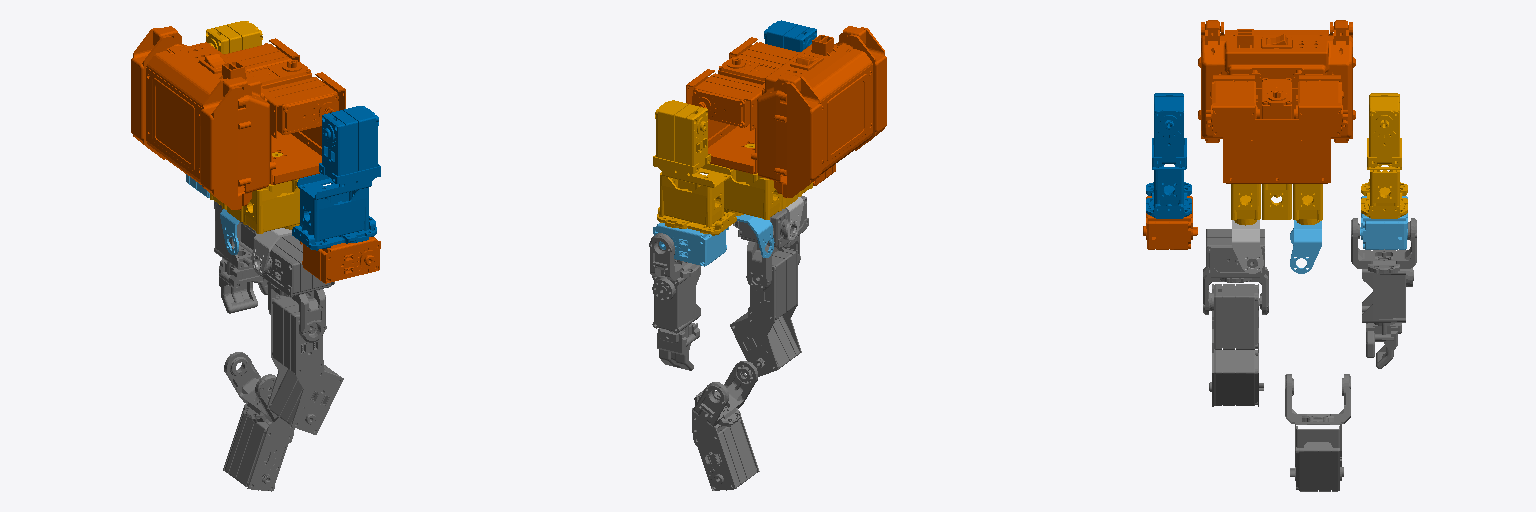
--- Render facts (derived) ---
The picture shows the robot from 3 angles, left to right: view 1: azimuth 30°, elevation 25°; view 2: azimuth 150°, elevation 25°; view 3: azimuth 270°, elevation 25°; orthographic projection.
Robot: khr22 — 23 links, 22 joints (22 revolute); root link BODY; default pose: all joints at 0.
Links seen in each view (by area): view 1: TORSO_LINK0, RARM_LINK1, RLEG_LINK2, LLEG_LINK3, RLEG_LINK1, LARM_LINK3, BODY, RARM_LINK2, LARM_LINK1, RLEG_LINK0, LLEG_LINK0; view 2: TORSO_LINK0, LARM_LINK1, LLEG_LINK3, RLEG_LINK2, LARM_LINK3, BODY, RLEG_LINK1, LARM_LINK2, RARM_LINK1, LLEG_LINK0; view 3: TORSO_LINK0, RLEG_LINK2, LARM_LINK3, LARM_LINK1, RARM_LINK1, LLEG_LINK3, BODY, RLEG_LINK1, RARM_LINK2, LARM_LINK2, LLEG_LINK0, RLEG_LINK0.
Link boxes in pixels (x1,y1,x2,y2): TORSO_LINK0: [131, 26, 345, 209]; RARM_LINK1: [292, 106, 380, 250]; RLEG_LINK2: [267, 296, 343, 434]; LLEG_LINK3: [223, 352, 294, 491]; RLEG_LINK1: [253, 235, 334, 342]; LARM_LINK3: [214, 201, 267, 313]; BODY: [210, 152, 299, 233]; RARM_LINK2: [300, 237, 380, 283]; LARM_LINK1: [206, 21, 262, 53]; RLEG_LINK0: [251, 228, 291, 274]; LLEG_LINK0: [220, 209, 239, 254]; TORSO_LINK0: [686, 26, 886, 197]; LARM_LINK1: [653, 100, 736, 235]; LLEG_LINK3: [692, 361, 759, 490]; RLEG_LINK2: [730, 248, 801, 376]; LARM_LINK3: [649, 233, 700, 370]; BODY: [724, 144, 812, 219]; RLEG_LINK1: [735, 196, 808, 290]; LARM_LINK2: [653, 223, 728, 266]; RARM_LINK1: [764, 20, 816, 51]; LLEG_LINK0: [736, 214, 774, 257]; TORSO_LINK0: [1198, 20, 1355, 183]; RLEG_LINK2: [1209, 284, 1263, 406]; LARM_LINK3: [1351, 218, 1416, 368]; LARM_LINK1: [1361, 93, 1407, 218]; RARM_LINK1: [1146, 93, 1191, 218]; LLEG_LINK3: [1285, 374, 1350, 491]; BODY: [1231, 184, 1322, 225]; RLEG_LINK1: [1203, 229, 1268, 314]; RARM_LINK2: [1143, 196, 1197, 249]; LARM_LINK2: [1360, 196, 1407, 249]; LLEG_LINK0: [1290, 220, 1321, 273]; RLEG_LINK0: [1232, 220, 1263, 273].
Size in the robot's own frame: 0.1103 by 0.1897 by 0.3282 metres.
Meshes: 23 distinct files referenced, 12 mesh visuals loaded (12 Collada DAE); not drawn: 11 (reference not matched to a file when rendering).

robot.urdf — khr22:
<?xml version="1.0"?>
<robot name="khr22"
       xmlns:xi="http://www.w3.org/2001/XInclude">
  <link name="BODY">
    <visual>
      <origin xyz="0 0 0" rpy="0 -0 0"/>
      <!-- <origin xyz="0.0013 0 0.28866" rpy="0 -0 0"/> -->
      <geometry>
        <mesh filename="khr22/mesh/BODY_mesh_refined.dae" scale="1 1 1" />
      </geometry>
    </visual>
    <collision>
      <origin xyz="0 0 0" rpy="0 -0 0"/>
      <!-- <origin xyz="0.0013 0 0.28866" rpy="0 -0 0"/> -->
      <geometry>
        <mesh filename="khr22/mesh/BODY_mesh_refined.dae" scale="1 1 1" />
      </geometry>
    </collision>
    <inertial>
      <mass value="0.12849" />
      <origin xyz="-0.0115 3.53916e-18 -0.02" rpy="0 -0 0"/>
      <inertia ixx="4.39672e-05" ixy="-5.24819e-23" ixz="-6.69555e-24" iyy="9.84623e-05" iyz="-1.72206e-20" izz="9.60387e-05"/>
    </inertial>
  </link>
  <link name="LLEG_LINK0">
    <visual>
      <origin xyz="0 -0.022 0.04" rpy="0 -0 0"/>
      <geometry>
        <mesh filename="khr22/mesh/LLEG_LINK0_mesh_refined.dae" scale="1 1 1" />
      </geometry>
    </visual>
    <collision>
      <origin xyz="0 -0.022 0.04" rpy="0 -0 0"/>
      <geometry>
        <mesh filename="khr22/mesh/LLEG_LINK0_mesh_refined.dae" scale="1 1 1" />
      </geometry>
    </collision>
    <inertial>
      <mass value="0.003322" />
      <origin xyz="-0.001629 -0.001057 -0.009271" rpy="0 -0 0"/>
      <inertia ixx="1.0684e-05" ixy="2.25136e-07" ixz="-7.55589e-09" iyy="1.17667e-05" iyz="-4.21048e-08" izz="4.59644e-06"/>
    </inertial>
  </link>
  <link name="LLEG_LINK1">
    <visual>
      <origin xyz="0.018517 0.017 -0.06265" rpy="0 -0 0"/>
      <geometry>
        <mesh filename="khr22/mesh/LLEG_LINK1_mesh_refined.dae" scale="1 1 1" />
      </geometry>
    </visual>
    <collision>
      <origin xyz="0.018517 0.017 -0.06265" rpy="0 -0 0"/>
      <geometry>
        <mesh filename="khr22/mesh/LLEG_LINK1_mesh_refined.dae" scale="1 1 1" />
      </geometry>
    </collision>
    <inertial>
      <mass value="0.0699" />
      <origin xyz="-0.021734 0.011506 -0.014091" rpy="0 -0 0"/>
      <inertia ixx="1.6919e-05" ixy="-8.67462e-08" ixz="-1.21724e-08" iyy="1.58948e-05" iyz="-5.7174e-07" izz="9.6286e-06"/>
      <!-- <mass value="0.059469" /> -->
      <!-- <origin xyz="-0.02 0.0115 -0.006481" rpy="0 -0 0"/> -->
      <!-- <inertia ixx="6.45473e-05" ixy="-4.27652e-10" ixz="4.33505e-10" iyy="7.31302e-05" iyz="2.22978e-08" izz="4.57654e-05"/> -->
    </inertial>
  </link>
  <link name="LLEG_LINK2">
    <visual>
      <origin xyz="-0.0192 -0.00825 -0.0385" rpy="0 -0 0"/>
      <geometry>
        <mesh filename="khr22/mesh/LLEG_LINK2_mesh_refined.dae" scale="1 1 1" />
      </geometry>
    </visual>
    <collision>
      <origin xyz="-0.0192 -0.00825 -0.0385" rpy="0 -0 0"/>
      <geometry>
        <mesh filename="khr22/mesh/LLEG_LINK2_mesh_refined.dae" scale="1 1 1" />
      </geometry>
    </collision>
    <inertial>
      <mass value="0.1031" />
      <origin xyz="0.002871 0.018978 -0.033258" rpy="0 -0 0"/>
      <inertia ixx="5.51675e-05" ixy="-4.33138e-07" ixz="1.60787e-07" iyy="5.51001e-05" iyz="2.79276e-08" izz="1.42107e-05"/>
      <!-- <mass value="0.08566" /> -->
      <!-- <origin xyz="0.002875 0.02 -0.03327" rpy="0 -0 0"/> -->
      <!-- <inertia ixx="6.70633e-05" ixy="2.76374e-22" ixz="-1.9933e-23" iyy="0.000102" iyz="2.47851e-20" izz="6.47926e-05"/> -->
    </inertial>
  </link>
  <link name="LLEG_LINK3">
    <visual>
      <origin xyz="0 0 -0.065" rpy="0 -0 0"/>
      <geometry>
        <mesh filename="khr22/mesh/LLEG_LINK3_mesh_refined.dae" scale="1 1 1" />
      </geometry>
    </visual>
    <collision>
      <origin xyz="0 0 -0.065" rpy="0 -0 0"/>
      <geometry>
        <mesh filename="khr22/mesh/LLEG_LINK3_mesh_refined.dae" scale="1 1 1" />
      </geometry>
    </collision>
    <inertial>
      <mass value="0.0694" />
      <origin xyz="0.003613 0.016674 -0.031461" rpy="0 -0 0"/>
      <inertia ixx="3.675e-05" ixy="-1.69837e-07" ixz="-8.70062e-07" iyy="3.37577e-05" iyz="-1.30046e-07" izz="1.29244e-05"/>
      <!-- <mass value="0.059469" /> -->
      <!-- <origin xyz="0.005048 0.02 -0.042868" rpy="0 -0 0"/> -->
      <!-- <inertia ixx="0.000211" ixy="-4.27652e-10" ixz="-4.35972e-07" iyy="0.000219" iyz="2.22978e-08" izz="4.55794e-05"/> -->
    </inertial>
  </link>
  <link name="LLEG_LINK4">
    <visual>
      <origin xyz="0 0 -0.065" rpy="0 -0 0"/>
      <geometry>
        <mesh filename="khr22/mesh/LLEG_LINK4_mesh_refined.dae" scale="1 1 1" />
      </geometry>
    </visual>
    <collision>
      <origin xyz="0 0 -0.065" rpy="0 -0 0"/>
      <geometry>
        <mesh filename="khr22/mesh/LLEG_LINK4_mesh_refined.dae" scale="1 1 1" />
      </geometry>
    </collision>
    <inertial>
      <mass value="0.0691" />
      <origin xyz="-0.000386 0.016666 -0.024369" rpy="0 -0 0"/>
      <inertia ixx="1.89725e-05" ixy="-5.30464e-08" ixz="-3.88994e-07" iyy="1.73695e-05" iyz="-1.9347e-08" izz="1.22922e-05"/>
      <!-- <mass value="0.059469" /> -->
      <!-- <origin xyz="-1.0842e-18 0.02 -0.032159" rpy="0 -0 0"/> -->
      <!-- <inertia ixx="0.000349" ixy="-4.27652e-10" ixz="4.33505e-10" iyy="0.000358" iyz="2.22978e-08" izz="4.5842e-05"/> -->
    </inertial>
  </link>
  <link name="LLEG_LINK5">
    <visual>
      <origin xyz="0.019683 0.00825 -0.0385" rpy="0 -0 0"/>
      <geometry>
        <mesh filename="khr22/mesh/LLEG_LINK5_mesh_refined.dae" scale="1 1 1" />
      </geometry>
    </visual>
    <collision>
      <origin xyz="0.019683 0.00825 -0.0385" rpy="0 -0 0"/>
      <geometry>
        <mesh filename="khr22/mesh/LLEG_LINK5_mesh_refined.dae" scale="1 1 1" />
      </geometry>
    </collision>
    <inertial>
      <mass value="0.0419" />
      <origin xyz="-0.020862 0.020902 -0.013459" rpy="0 -0 0"/>
      <inertia ixx="1.31439e-05" ixy="-3.43305e-09" ixz="-2.13264e-07" iyy="2.75629e-05" iyz="3.99808e-07" izz="3.78492e-05"/>
      <!-- <mass value="0.103233" /> -->
      <!-- <origin xyz="3.46945e-18 0.01093 0.00521" rpy="0 -0 0"/> -->
      <!-- <inertia ixx="0.000993" ixy="4.72528e-06" ixz="-1.08944e-06" iyy="0.000411" iyz="1.03972e-06" izz="0.000602"/> -->
    </inertial>
  </link>
  <link name="RLEG_LINK0">
    <visual>
      <origin xyz="0 0.022 0.04" rpy="0 -0 0"/>
      <geometry>
        <mesh filename="khr22/mesh/RLEG_LINK0_mesh_refined.dae" scale="1 1 1" />
      </geometry>
    </visual>
    <collision>
      <origin xyz="0 0.022 0.04" rpy="0 -0 0"/>
      <geometry>
        <mesh filename="khr22/mesh/RLEG_LINK0_mesh_refined.dae" scale="1 1 1" />
      </geometry>
    </collision>
    <inertial>
      <mass value="0.003322" />
      <origin xyz="-0.001629 0.001057 -0.009271" rpy="0 -0 0"/>
      <inertia ixx="1.0684e-05" ixy="2.25136e-07" ixz="-8.02116e-09" iyy="1.17667e-05" iyz="4.20715e-08" izz="4.59644e-06"/>
    </inertial>
  </link>
  <link name="RLEG_LINK1">
    <visual>
      <origin xyz="0.018517 -0.017 -0.06265" rpy="0 -0 0"/>
      <geometry>
        <mesh filename="khr22/mesh/RLEG_LINK1_mesh_refined.dae" scale="1 1 1" />
      </geometry>
    </visual>
    <collision>
      <origin xyz="0.018517 -0.017 -0.06265" rpy="0 -0 0"/>
      <geometry>
        <mesh filename="khr22/mesh/RLEG_LINK1_mesh_refined.dae" scale="1 1 1" />
      </geometry>
    </collision>
    <inertial>
      <mass value="0.0699" />
      <origin xyz="-0.021734 -0.011506 -0.014091" rpy="0 -0 0"/>
      <inertia ixx="1.67706e-05" ixy="3.09063e-07" ixz="-9.06368e-08" iyy="1.59351e-05" iyz="-1.85881e-07" izz="8.90141e-06"/>
      <!-- <mass value="0.059469" /> -->
      <!-- <origin xyz="-0.02 -0.0115 -0.006481" rpy="0 -0 0"/> -->
      <!-- <inertia ixx="6.45473e-05" ixy="-4.27652e-10" ixz="4.33505e-10" iyy="7.31302e-05" iyz="2.22978e-08" izz="4.57654e-05"/> -->
    </inertial>
  </link>
  <link name="RLEG_LINK2">
    <visual>
      <origin xyz="-0.0192 0.00825 -0.0385" rpy="0 -0 0"/>
      <geometry>
        <mesh filename="khr22/mesh/RLEG_LINK2_mesh_refined.dae" scale="1 1 1" />
      </geometry>
    </visual>
    <collision>
      <origin xyz="-0.0192 0.00825 -0.0385" rpy="0 -0 0"/>
      <geometry>
        <mesh filename="khr22/mesh/RLEG_LINK2_mesh_refined.dae" scale="1 1 1" />
      </geometry>
    </collision>
    <inertial>
      <mass value="0.1031" />
      <origin xyz="0.002871 -0.018978 -0.033258" rpy="0 -0 0"/>
      <inertia ixx="5.53682e-05" ixy="1.79727e-07" ixz="1.50432e-07" iyy="5.49684e-05" iyz="-1.26323e-07" izz="1.5723e-05"/>
      <!-- <mass value="0.08566" /> -->
      <!-- <origin xyz="0.002875 -0.02 -0.03327" rpy="0 -0 0"/> -->
      <!-- <inertia ixx="6.70633e-05" ixy="2.76374e-22" ixz="-1.9933e-23" iyy="0.000102" iyz="2.47851e-20" izz="6.47926e-05"/> -->
    </inertial>
  </link>
  <link name="RLEG_LINK3">
    <visual>
      <origin xyz="0 0 -0.065" rpy="0 -0 0"/>
      <geometry>
        <mesh filename="khr22/mesh/RLEG_LINK3_mesh_refined.dae" scale="1 1 1" />
      </geometry>
    </visual>
    <collision>
      <origin xyz="0 0 -0.065" rpy="0 -0 0"/>
      <geometry>
        <mesh filename="khr22/mesh/RLEG_LINK3_mesh_refined.dae" scale="1 1 1" />
      </geometry>
    </collision>
    <inertial>
      <mass value="0.0694" />
      <origin xyz="0.003613 -0.016674 -0.031461" rpy="0 -0 0"/>
      <inertia ixx="3.88163e-05" ixy="-4.03699e-09" ixz="-8.68336e-07" iyy="3.51562e-05" iyz="-8.44442e-08" izz="1.3848e-05"/>
      <!-- <mass value="0.059469" /> -->
      <!-- <origin xyz="0.005048 -0.02 -0.042868" rpy="0 -0 0"/> -->
      <!-- <inertia ixx="0.000211" ixy="-4.27652e-10" ixz="-4.35972e-07" iyy="0.000219" iyz="2.22978e-08" izz="4.55794e-05"/> -->
    </inertial>
  </link>
  <link name="RLEG_LINK4">
    <visual>
      <origin xyz="0 -0.003 -0.065" rpy="0 -0 0"/>
      <geometry>
        <mesh filename="khr22/mesh/RLEG_LINK4_mesh_refined.dae" scale="1 1 1" />
      </geometry>
    </visual>
    <collision>
      <origin xyz="0 -0.003 -0.065" rpy="0 -0 0"/>
      <geometry>
        <mesh filename="khr22/mesh/RLEG_LINK4_mesh_refined.dae" scale="1 1 1" />
      </geometry>
    </collision>
    <inertial>
      <mass value="0.0691" />
      <origin xyz="-0.000386 -0.016666 -0.024369" rpy="0 -0 0"/>
      <inertia ixx="2.07911e-05" ixy="-1.95431e-07" ixz="9.83503e-08" iyy="1.81828e-05" iyz="8.03039e-08" izz="1.18297e-05"/>
      <!-- <mass value="0.059469" /> -->
      <!-- <origin xyz="-4.33681e-19 -0.02 -0.032159" rpy="0 -0 0"/> -->
      <!-- <inertia ixx="0.000349" ixy="-4.27652e-10" ixz="4.33505e-10" iyy="0.000358" iyz="2.22978e-08" izz="4.5842e-05"/> -->
    </inertial>
  </link>
  <link name="RLEG_LINK5">
    <visual>
      <origin xyz="0.019683 -0.00825 -0.0385" rpy="0 -0 0"/>
      <geometry>
        <mesh filename="khr22/mesh/RLEG_LINK5_mesh_refined.dae" scale="1 1 1" />
      </geometry>
    </visual>
    <collision>
      <origin xyz="0.019683 -0.00825 -0.0385" rpy="0 -0 0"/>
      <geometry>
        <mesh filename="khr22/mesh/RLEG_LINK5_mesh_refined.dae" scale="1 1 1" />
      </geometry>
    </collision>
    <inertial>
      <mass value="0.0419" />
      <origin xyz="-0.020862 -0.020902 -0.013459" rpy="0 -0 0"/>
      <inertia ixx="1.24417e-05" ixy="-6.00499e-07" ixz="1.04282e-07" iyy="3.00021e-05" iyz="-5.79267e-07" izz="3.92743e-05"/>
      <!-- <mass value="0.103233" /> -->
      <!-- <origin xyz="-3.46945e-18 -0.01093 0.00521" rpy="0 -0 0"/> -->
      <!-- <inertia ixx="0.000993" ixy="4.72527e-06" ixz="1.01251e-06" iyy="0.000411" iyz="-1.52142e-07" izz="0.000602"/> -->
    </inertial>
  </link>
  <link name="TORSO_LINK0">
    <visual>
      <origin xyz="0 0 0" rpy="0 -0 0"/>
      <geometry>
        <mesh filename="khr22/mesh/TORSO_LINK0_mesh_refined.dae" scale="1 1 1" />
      </geometry>
    </visual>
    <collision>
      <origin xyz="0 0 0" rpy="0 -0 0"/>
      <geometry>
        <mesh filename="khr22/mesh/TORSO_LINK0_mesh_refined.dae" scale="1 1 1" />
      </geometry>
    </collision>
    <inertial>
      <mass value="0.35983" />
      <origin xyz="-0.029892 1.89568e-17 0.029281" rpy="0 -0 0"/>
      <inertia ixx="0.002007" ixy="3.87489e-05" ixz="-9.86728e-07" iyy="0.001856" iyz="-7.26528e-06" izz="0.001515"/>
    </inertial>
  </link>
  <link name="HEAD_LINK0">
    <visual>
      <origin xyz="0 0 0.0644" rpy="0 -0 0"/>
      <geometry>
        <mesh filename="khr22/mesh/HEAD_LINK0_mesh_refined.dae" scale="1 1 1" />
      </geometry>
    </visual>
    <collision>
      <origin xyz="0 0 0.0644" rpy="0 -0 0"/>
      <geometry>
        <mesh filename="khr22/mesh/HEAD_LINK0_mesh_refined.dae" scale="1 1 1" />
      </geometry>
    </collision>
    <inertial>
      <mass value="0.0149" />
      <origin xyz="0.002048 0 0.020747" rpy="0 -0 0"/>
      <inertia ixx="1.89498e-06" ixy="1.75751e-08" ixz="-5.79694e-08" iyy="3.27018e-06" iyz="1.69379e-08" izz="2.44034e-06"/>
      <!-- <mass value="0.014361" /> -->
      <!-- <origin xyz="0.003285 -2.30629e-06 0.020555" rpy="0 -0 0"/> -->
      <!-- <inertia ixx="4.95528e-05" ixy="-1.38168e-11" ixz="-7.3432e-08" iyy="4.45537e-05" iyz="-2.01845e-09" izz="1.47912e-05"/> -->
    </inertial>
  </link>
  <link name="LARM_LINK0">
    <visual>
      <origin xyz="0.0115 0.049 0.0474" rpy="0 -0 0"/>
      <geometry>
        <mesh filename="khr22/mesh/LARM_LINK0_mesh_refined.dae" scale="1 1 1" />
      </geometry>
    </visual>
    <collision>
      <origin xyz="0.0115 0.049 0.0474" rpy="0 -0 0"/>
      <geometry>
        <mesh filename="khr22/mesh/LARM_LINK0_mesh_refined.dae" scale="1 1 1" />
      </geometry>
    </collision>
    <inertial>
      <mass value="0.0153" />
      <origin xyz="0 0.014576 0" rpy="0 -0 0"/>
      <inertia ixx="1.64238e-06" ixy="-4.39899e-09" ixz="2.13134e-08" iyy="2.26922e-06" iyz="-3.47822e-09" izz="2.75336e-06"/>
      <!-- <mass value="0.016639" /> -->
      <!-- <origin xyz="-3.46945e-18 0.009163 0" rpy="0 -0 0"/> -->
      <!-- <inertia ixx="3.04092e-05" ixy="-4.27652e-10" ixz="4.33505e-10" iyy="2.27027e-05" iyz="2.22978e-08" izz="2.23763e-05"/> -->
    </inertial>
  </link>
  <link name="LARM_LINK1">
    <visual>
      <origin xyz="0.01975 0.0255 0" rpy="0 -0 0"/>
      <geometry>
        <mesh filename="khr22/mesh/LARM_LINK1_mesh_refined.dae" scale="1 1 1" />
      </geometry>
    </visual>
    <collision>
      <origin xyz="0.01975 0.0255 0" rpy="0 -0 0"/>
      <geometry>
        <mesh filename="khr22/mesh/LARM_LINK1_mesh_refined.dae" scale="1 1 1" />
      </geometry>
    </collision>
    <inertial>
      <mass value="0.08566" />
      <origin xyz="-0.02425 0 -0.03275" rpy="0 -0 0"/>
      <inertia ixx="4.0299e-05" ixy="-8.32865e-25" ixz="-3.89972e-23" iyy="6.60435e-05" iyz="9.2227e-21" izz="7.43506e-05"/>
    </inertial>
  </link>
  <link name="LARM_LINK2">
    <visual>
      <origin xyz="0.04025 0.0255 0.075" rpy="0 -0 0"/>
      <!-- <origin xyz="-0.016 0 -0.075" rpy="0 -0 0"/> -->
      <geometry>
        <mesh filename="khr22/mesh/LARM_LINK2_mesh_refined.dae" scale="1 1 1" />
      </geometry>
    </visual>
    <collision>
      <origin xyz="0.04025 0.0255 0.075" rpy="0 -0 0"/>
      <!-- <origin xyz="-0.016 0 -0.075" rpy="0 -0 0"/> -->
      <geometry>
        <mesh filename="khr22/mesh/LARM_LINK2_mesh_refined.dae" scale="1 1 1" />
      </geometry>
    </collision>
    <inertial>
      <mass value="0.04283" />
      <origin xyz="0.0115 0 1.04083e-17" rpy="0 -0 0"/>
      <inertia ixx="2.11725e-05" ixy="4.25575e-26" ixz="-1.88949e-23" iyy="3.40543e-05" iyz="1.04267e-20" izz="3.71848e-05"/>
    </inertial>
  </link>
  <link name="LARM_LINK3">
    <visual>
      <origin xyz="-0.0153 -0.0197 -0.0875" rpy="0 -0 0"/>
      <geometry>
        <mesh filename="khr22/mesh/LARM_LINK3_mesh_refined.dae" scale="1 1 1" />
      </geometry>
    </visual>
    <collision>
      <origin xyz="-0.0153 -0.0197 -0.0875" rpy="0 -0 0"/>
      <geometry>
        <mesh filename="khr22/mesh/LARM_LINK3_mesh_refined.dae" scale="1 1 1" />
      </geometry>
    </collision>
    <inertial>
      <mass value="0.0315" />
      <origin xyz="0.000525 0.019115 -0.039067" rpy="0 -0 0"/>
      <inertia ixx="2.0635e-05" ixy="6.63534e-08" ixz="1.858e-07" iyy="1.94974e-05" iyz="-1.80473e-07" izz="3.50615e-06"/>
      <!-- <mass value="0.07626" /> -->
      <!-- <origin xyz="0.020363 0.074486 -0.077361" rpy="0 -0 0"/> -->
      <!-- <inertia ixx="0.000144" ixy="4.76604e-08" ixz="1.40919e-07" iyy="0.000121" iyz="-4.90624e-08" izz="9.78235e-05"/> -->
    </inertial>
  </link>
  <link name="RARM_LINK0">
    <visual>
      <origin xyz="0.0115 -0.049 0.0474" rpy="0 -0 0"/>
      <geometry>
        <mesh filename="khr22/mesh/RARM_LINK0_mesh_refined.dae" scale="1 1 1" />
      </geometry>
    </visual>
    <collision>
      <origin xyz="0.0115 -0.049 0.0474" rpy="0 -0 0"/>
      <geometry>
        <mesh filename="khr22/mesh/RARM_LINK0_mesh_refined.dae" scale="1 1 1" />
      </geometry>
    </collision>
    <inertial>
      <mass value="0.0153" />
      <origin xyz="0 -0.014576 0" rpy="0 -0 0"/>
      <inertia ixx="1.6763e-06" ixy="-1.67661e-08" ixz="-9.95332e-09" iyy="2.26307e-06" iyz="1.99264e-09" izz="2.74554e-06"/>
      <!-- <mass value="0.016639" /> -->
      <!-- <origin xyz="0 -0.009163 0" rpy="0 -0 0"/> -->
      <!-- <inertia ixx="3.04092e-05" ixy="-4.27652e-10" ixz="4.33505e-10" iyy="2.27027e-05" iyz="2.22978e-08" izz="2.23763e-05"/> -->
    </inertial>
  </link>
  <link name="RARM_LINK1">
    <visual>
      <origin xyz="0.01975 -0.0255 0" rpy="0 -0 0"/>
      <geometry>
        <mesh filename="khr22/mesh/RARM_LINK1_mesh_refined.dae" scale="1 1 1" />
      </geometry>
    </visual>
    <collision>
      <origin xyz="0.01975 -0.0255 0" rpy="0 -0 0"/>
      <geometry>
        <mesh filename="khr22/mesh/RARM_LINK1_mesh_refined.dae" scale="1 1 1" />
      </geometry>
    </collision>
    <inertial>
      <mass value="0.08566" />
      <origin xyz="-0.02425 0 -0.03275" rpy="0 -0 0"/>
      <inertia ixx="4.0299e-05" ixy="-8.32865e-25" ixz="-3.89972e-23" iyy="6.60435e-05" iyz="9.2227e-21" izz="7.43506e-05"/>
    </inertial>
  </link>
  <link name="RARM_LINK2">
    <visual>
      <origin xyz="0.04025 -0.0255 0.075" rpy="0 -0 0"/>
      <!-- <origin xyz="-0.016 0 -0.075" rpy="0 -0 0"/> -->
      <geometry>
        <mesh filename="khr22/mesh/RARM_LINK2_mesh_refined.dae" scale="1 1 1" />
      </geometry>
    </visual>
    <collision>
      <origin xyz="0.04025 -0.0255 0.075" rpy="0 -0 0"/>
      <!-- <origin xyz="-0.016 0 -0.075" rpy="0 -0 0"/> -->
      <geometry>
        <mesh filename="khr22/mesh/RARM_LINK2_mesh_refined.dae" scale="1 1 1" />
      </geometry>
    </collision>
    <inertial>
      <mass value="0.04283" />
      <origin xyz="0.0115 0 1.04083e-17" rpy="0 -0 0"/>
      <inertia ixx="2.11725e-05" ixy="4.25575e-26" ixz="-1.88949e-23" iyy="3.40543e-05" iyz="1.04267e-20" izz="3.71848e-05"/>
    </inertial>
  </link>
  <link name="RARM_LINK3">
    <visual>
      <origin xyz="-0.0153 0.0197 -0.0875" rpy="0 -0 0"/>
      <geometry>
        <mesh filename="khr22/mesh/RARM_LINK3_mesh_refined.dae" scale="1 1 1" />
      </geometry>
    </visual>
    <collision>
      <origin xyz="-0.0153 0.0197 -0.0875" rpy="0 -0 0"/>
      <geometry>
        <mesh filename="khr22/mesh/RARM_LINK3_mesh_refined.dae" scale="1 1 1" />
      </geometry>
    </collision>
    <inertial>
      <mass value="0.0315" />
      <origin xyz="0.000525 -0.019115 -0.039067" rpy="0 -0 0"/>
      <inertia ixx="2.01586e-05" ixy="-1.18985e-07" ixz="7.55844e-08" iyy="1.8365e-05" iyz="5.07189e-07" izz="4.02757e-06"/>
      <!-- <mass value="0.07626" /> -->
      <!-- <origin xyz="0.020363 -0.074486 -0.077361" rpy="0 -0 0"/> -->
      <!-- <inertia ixx="0.000144" ixy="4.76604e-08" ixz="1.7102e-07" iyy="0.000121" iyz="8.96584e-08" izz="9.78235e-05"/> -->
    </inertial>
  </link>
  <joint name="LLEG_JOINT0" type="revolute">
    <parent link="BODY"/>
    <child  link="LLEG_LINK0"/>
    <origin xyz="0 0.022 -0.04" rpy="0 -0 0 "/>
    <axis   xyz="0 0 1"/>
    <limit lower="-3.14159" upper="3.14159" effort="100" velocity="0.5" />
    <dynamics damping="0.2" friction="0" />
  </joint>
  <joint name="LLEG_JOINT1" type="revolute">
    <parent link="LLEG_LINK0"/>
    <child  link="LLEG_LINK1"/>
    <origin xyz="0.02 -0.005 -0.0235" rpy="0 -0 0 "/>
    <axis   xyz="1 0 0"/>
    <limit lower="-3.14159" upper="3.14159" effort="100" velocity="0.5" />
    <dynamics damping="0.2" friction="0" />
  </joint>
  <joint name="LLEG_JOINT2" type="revolute">
    <parent link="LLEG_LINK1"/>
    <child  link="LLEG_LINK2"/>
    <origin xyz="-0.021 -0.00825 -0.0385" rpy="0 -0 0 "/>
    <axis   xyz="0 1 0"/>
    <limit lower="-3.14159" upper="3.14159" effort="100" velocity="0.5" />
    <dynamics damping="0.2" friction="0" />
  </joint>
  <joint name="LLEG_JOINT3" type="revolute">
    <parent link="LLEG_LINK2"/>
    <child  link="LLEG_LINK3"/>
    <origin xyz="0 0 -0.065" rpy="0 -0 0 "/>
    <axis   xyz="0 1 0"/>
    <limit lower="-3.14159" upper="3.14159" effort="100" velocity="0.5" />
    <dynamics damping="0.2" friction="0" />
  </joint>
  <joint name="LLEG_JOINT4" type="revolute">
    <parent link="LLEG_LINK3"/>
    <child  link="LLEG_LINK4"/>
    <origin xyz="0 0 -0.065" rpy="0 -0 0 "/>
    <axis   xyz="0 1 0"/>
    <limit lower="-3.14159" upper="3.14159" effort="100" velocity="0.5" />
    <dynamics damping="0.2" friction="0" />
  </joint>
  <joint name="LLEG_JOINT5" type="revolute">
    <parent link="LLEG_LINK4"/>
    <child  link="LLEG_LINK5"/>
    <origin xyz="0.0197 0.00825 -0.0385" rpy="0 -0 0 "/>
    <axis   xyz="1 0 0"/>
    <limit lower="-3.14159" upper="3.14159" effort="100" velocity="0.5" />
    <dynamics damping="0.2" friction="0" />
  </joint>
  <joint name="RLEG_JOINT0" type="revolute">
    <parent link="BODY"/>
    <child  link="RLEG_LINK0"/>
    <origin xyz="0 -0.022 -0.04" rpy="0 -0 0 "/>
    <axis   xyz="0 0 1"/>
    <limit lower="-3.14159" upper="3.14159" effort="100" velocity="0.5" />
    <dynamics damping="0.2" friction="0" />
  </joint>
  <joint name="RLEG_JOINT1" type="revolute">
    <parent link="RLEG_LINK0"/>
    <child  link="RLEG_LINK1"/>
    <origin xyz="0.02 0.005 -0.0235" rpy="0 -0 0 "/>
    <axis   xyz="1 0 0"/>
    <limit lower="-3.14159" upper="3.14159" effort="100" velocity="0.5" />
    <dynamics damping="0.2" friction="0" />
  </joint>
  <joint name="RLEG_JOINT2" type="revolute">
    <parent link="RLEG_LINK1"/>
    <child  link="RLEG_LINK2"/>
    <origin xyz="-0.021 0.00825 -0.0385" rpy="0 -0 0 "/>
    <axis   xyz="0 1 0"/>
    <limit lower="-3.14159" upper="3.14159" effort="100" velocity="0.5" />
    <dynamics damping="0.2" friction="0" />
  </joint>
  <joint name="RLEG_JOINT3" type="revolute">
    <parent link="RLEG_LINK2"/>
    <child  link="RLEG_LINK3"/>
    <origin xyz="0 0 -0.065" rpy="0 -0 0 "/>
    <axis   xyz="0 1 0"/>
    <limit lower="-3.14159" upper="3.14159" effort="100" velocity="0.5" />
    <dynamics damping="0.2" friction="0" />
  </joint>
  <joint name="RLEG_JOINT4" type="revolute">
    <parent link="RLEG_LINK3"/>
    <child  link="RLEG_LINK4"/>
    <origin xyz="0 0 -0.065" rpy="0 -0 0 "/>
    <axis   xyz="0 1 0"/>
    <limit lower="-3.14159" upper="3.14159" effort="100" velocity="0.5" />
    <dynamics damping="0.2" friction="0" />
  </joint>
  <joint name="RLEG_JOINT5" type="revolute">
    <parent link="RLEG_LINK4"/>
    <child  link="RLEG_LINK5"/>
    <origin xyz="0.0197 -0.00825 -0.0385" rpy="0 -0 0 "/>
    <axis   xyz="1 0 0"/>
    <limit lower="-3.14159" upper="3.14159" effort="100" velocity="0.5" />
    <dynamics damping="0.2" friction="0" />
  </joint>
  <joint name="TORSO_JOINT0" type="revolute">
    <parent link="BODY"/>
    <child  link="TORSO_LINK0"/>
    <origin xyz="0 0 0" rpy="0 -0 0 "/>
    <axis   xyz="0 0 1"/>
    <limit lower="-3.14159" upper="3.14159" effort="100" velocity="0.5" />
    <dynamics damping="0.2" friction="0" />
  </joint>
  <joint name="HEAD_JOINT0" type="revolute">
    <parent link="TORSO_LINK0"/>
    <child  link="HEAD_LINK0"/>
    <origin xyz="0.0115 0 0.064" rpy="0 -0 0 "/>
    <axis   xyz="0 0 1"/>
    <limit lower="-3.14159" upper="3.14159" effort="100" velocity="0.5" />
    <dynamics damping="0.2" friction="0" />
  </joint>
  <joint name="LARM_JOINT0" type="revolute">
    <parent link="TORSO_LINK0"/>
    <child  link="LARM_LINK0"/>
    <origin xyz="0.0115 0.049 0.0474" rpy="0 -0 0 "/>
    <axis   xyz="0 1 0"/>
    <limit lower="-3.14159" upper="3.14159" effort="100" velocity="0.5" />
    <dynamics damping="0.2" friction="0" />
  </joint>
  <joint name="LARM_JOINT1" type="revolute">
    <parent link="LARM_LINK0"/>
    <child  link="LARM_LINK1"/>
    <origin xyz="0.01975 0.0255 0" rpy="0 -0 0 "/>
    <axis   xyz="1 0 0"/>
    <limit lower="-3.14159" upper="3.14159" effort="100" velocity="0.5" />
    <dynamics damping="0.2" friction="0" />
  </joint>
  <joint name="LARM_JOINT2" type="revolute">
    <parent link="LARM_LINK1"/>
    <child  link="LARM_LINK2"/>
    <origin xyz="-0.0205 0 -0.075" rpy="0 -0 0 "/>
    <!-- <origin xyz="-0.016 0 -0.075" rpy="0 -0 0 "/> -->
    <axis   xyz="0 0 1"/>
    <limit lower="-3.14159" upper="3.14159" effort="100" velocity="0.5" />
    <dynamics damping="0.2" friction="0" />
  </joint>
  <joint name="LARM_JOINT3" type="revolute">
    <parent link="LARM_LINK2"/>
    <child  link="LARM_LINK3"/>
    <origin xyz="0.005 -0.02 -0.0125" rpy="0 -0 0 "/>
    <!-- <origin xyz="0.005 -0.02 -0.0135" rpy="0 -0 0 "/> -->
    <axis   xyz="0 1 0"/>
    <limit lower="-3.14159" upper="3.14159" effort="100" velocity="0.5" />
    <dynamics damping="0.2" friction="0" />
  </joint>
  <joint name="RARM_JOINT0" type="revolute">
    <parent link="TORSO_LINK0"/>
    <child  link="RARM_LINK0"/>
    <origin xyz="0.0115 -0.049 0.0474" rpy="0 -0 0 "/>
    <axis   xyz="0 1 0"/>
    <limit lower="-3.14159" upper="3.14159" effort="100" velocity="0.5" />
    <dynamics damping="0.2" friction="0" />
  </joint>
  <joint name="RARM_JOINT1" type="revolute">
    <parent link="RARM_LINK0"/>
    <child  link="RARM_LINK1"/>
    <origin xyz="0.01975 -0.0255 0" rpy="0 -0 0 "/>
    <axis   xyz="1 0 0"/>
    <limit lower="-3.14159" upper="3.14159" effort="100" velocity="0.5" />
    <dynamics damping="0.2" friction="0" />
  </joint>
  <joint name="RARM_JOINT2" type="revolute">
    <parent link="RARM_LINK1"/>
    <child  link="RARM_LINK2"/>
    <origin xyz="-0.0205 0 -0.075" rpy="0 -0 0 "/>
    <!-- <origin xyz="-0.016 0 -0.075" rpy="0 -0 0 "/> -->
    <axis   xyz="0 0 1"/>
    <limit lower="-3.14159" upper="3.14159" effort="100" velocity="0.5" />
    <dynamics damping="0.2" friction="0" />
  </joint>
  <joint name="RARM_JOINT3" type="revolute">
    <parent link="RARM_LINK2"/>
    <child  link="RARM_LINK3"/>
    <origin xyz="0.005 0.02 -0.0125" rpy="0 -0 0 "/>
    <!-- <origin xyz="0.005 0.02 -0.0135" rpy="0 -0 0 "/> -->
    <axis   xyz="0 1 0"/>
    <limit lower="-3.14159" upper="3.14159" effort="100" velocity="0.5" />
    <dynamics damping="0.2" friction="0" />
  </joint>
</robot>
